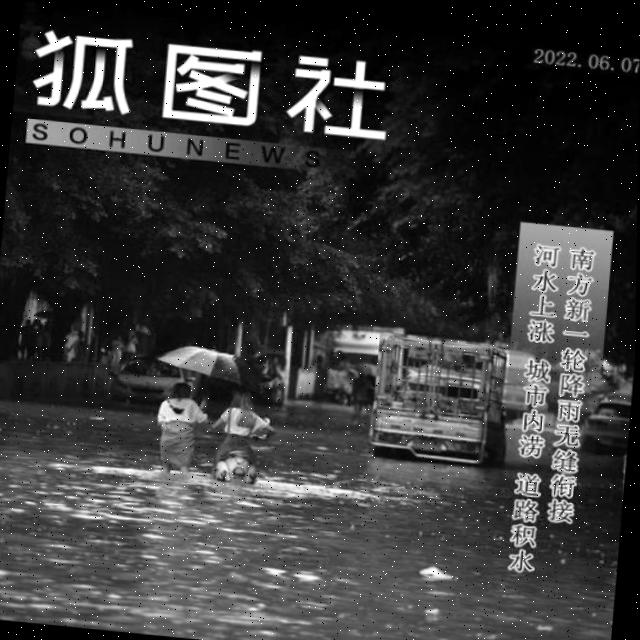civilian: (146, 371, 209, 482), (208, 381, 274, 479)
